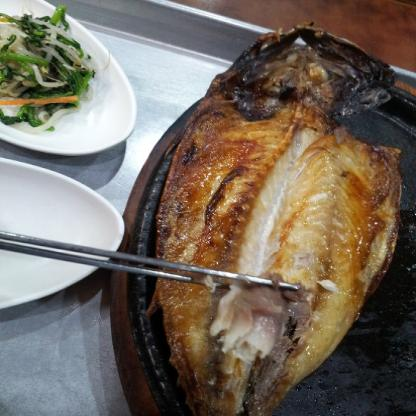Peixe: (123, 7, 416, 416)
